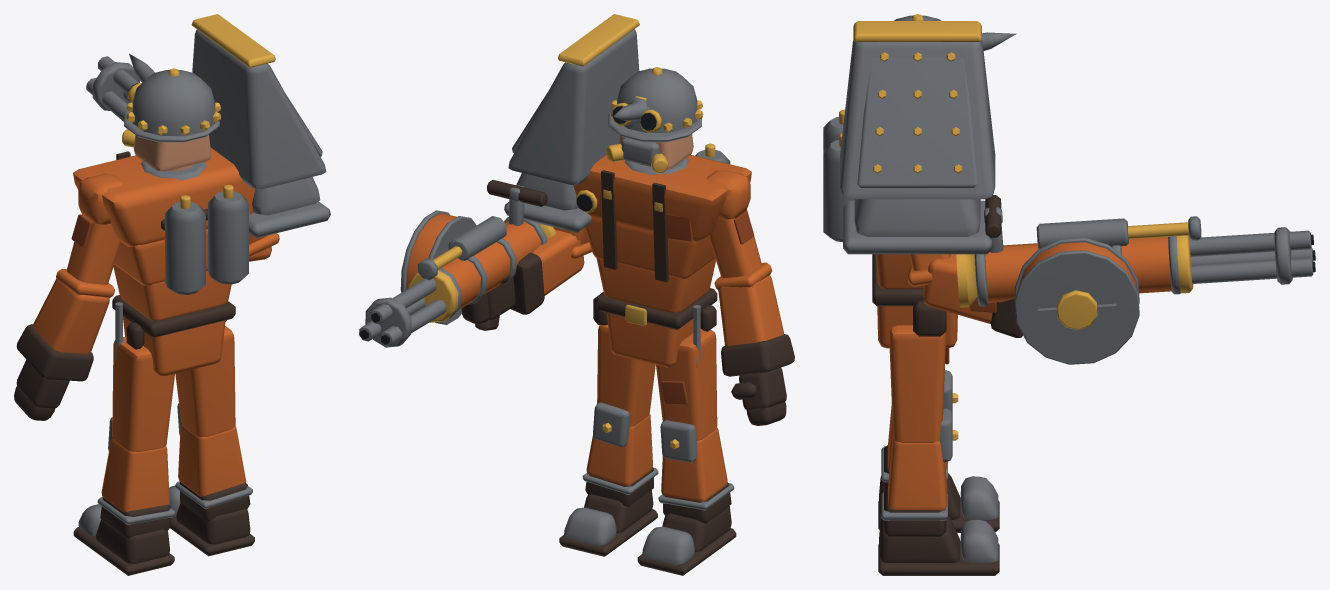
Rendered from clavus_posed.glb.
3 renders of one model, left to right at view 1: azimuth 30°, elevation 25°; view 2: azimuth 150°, elevation 25°; view 3: azimuth 270°, elevation 25°, orthographic. The views are drawn at different scales.
Parts seen in each view (by area): view 1: clavus_posed; view 2: clavus_posed; view 3: clavus_posed.
Boxes of the visible parts, <box> form: clavus_posed: <box>14,14,330,575</box>; clavus_posed: <box>359,14,794,575</box>; clavus_posed: <box>823,14,1315,575</box>.
Bounding box in the file's own units: 1.29 × 1.99 × 1.62.
